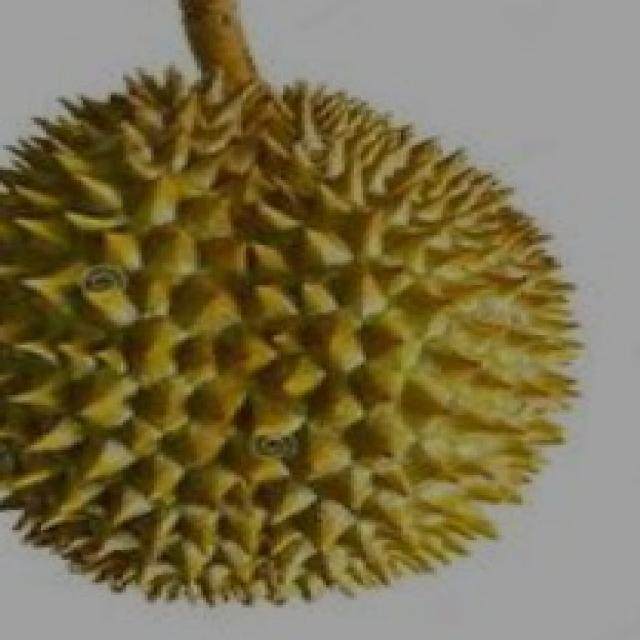fruit: (261, 237, 640, 637), (0, 5, 329, 455), (0, 270, 345, 640)
